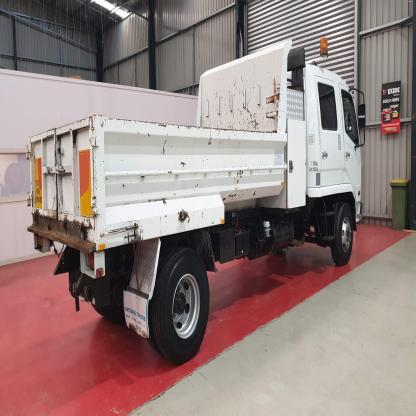truck: (28, 39, 366, 366)
